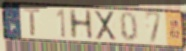0: (119, 11, 139, 44)
1: (56, 9, 68, 40)
7: (144, 11, 163, 46)
H: (67, 8, 95, 41)
T: (22, 8, 42, 37)
X: (93, 9, 119, 41)
